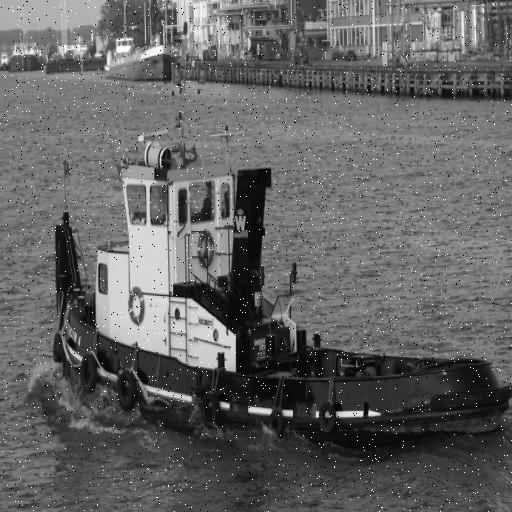tugboat: (50, 18, 512, 465)
